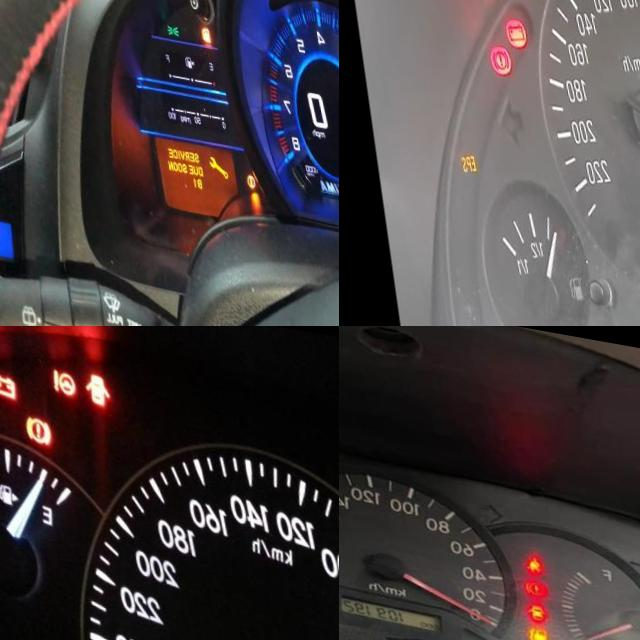Electronic Power Steering: (48, 363, 75, 393)
Seat Belt: (520, 539, 535, 559)
